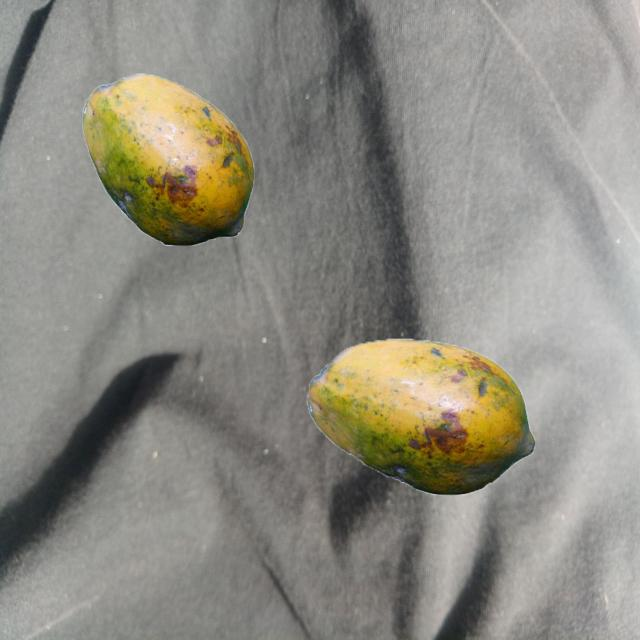Pepaya rippen: (288, 328, 536, 516), (56, 55, 254, 253)
